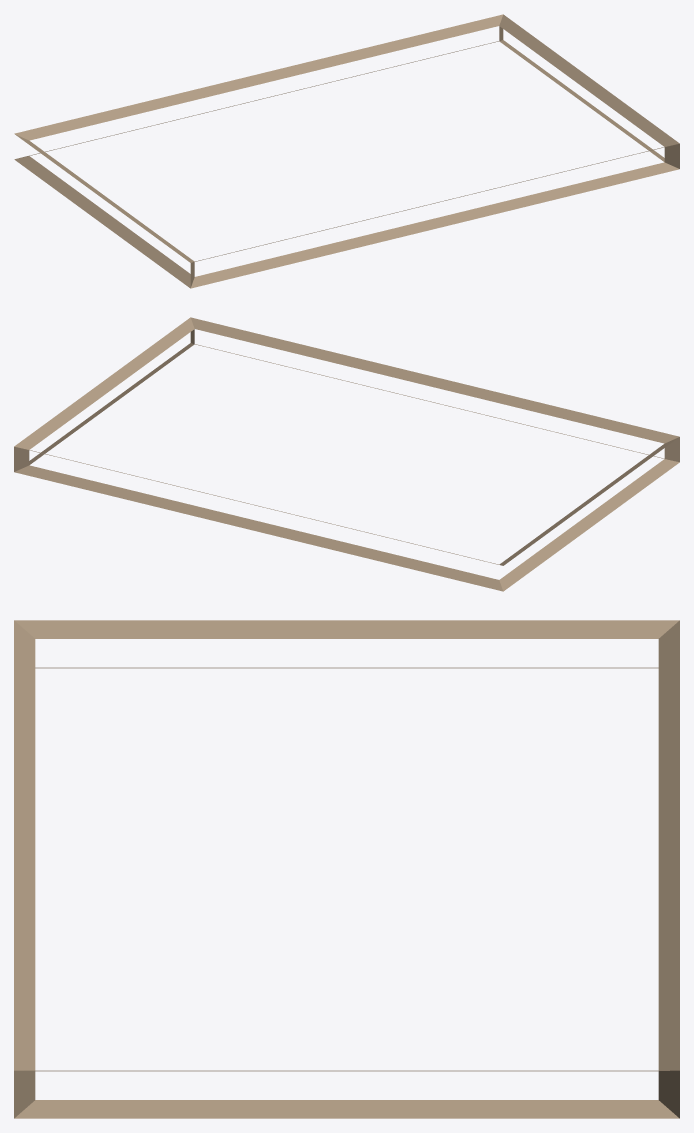
3 views of the same model, one above another, from view 1: azimuth 30°, elevation 25°; view 2: azimuth 150°, elevation 25°; view 3: azimuth 270°, elevation 25° (orthographic). The views are drawn at different scales.
Parts seen in each view (by area): view 1: door_garage_lod0_run001; view 2: door_garage_lod0_run001; view 3: door_garage_lod0_run001.
Part boxes in pixels (left/top/right/bottom): door_garage_lod0_run001: left=14, top=14, right=679, bottom=288; door_garage_lod0_run001: left=14, top=317, right=679, bottom=591; door_garage_lod0_run001: left=14, top=620, right=679, bottom=1118.
Size of the model in its own units: 4 by 0.2 by 2.5.
